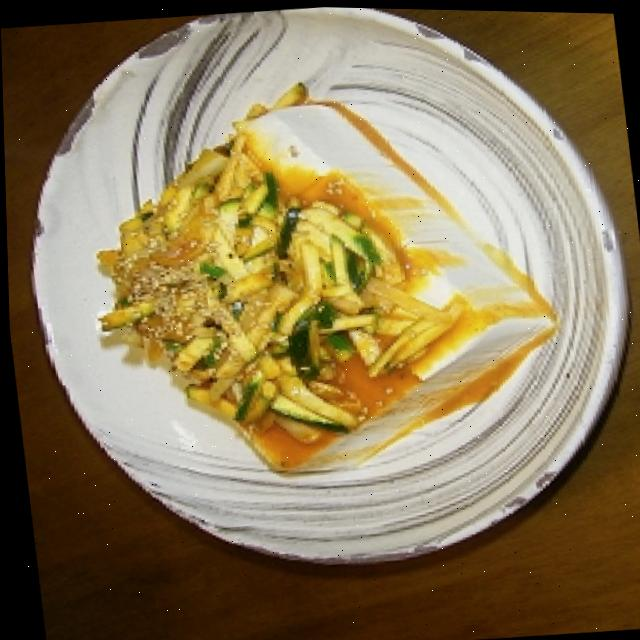豆腐料理: (75, 72, 565, 495)
